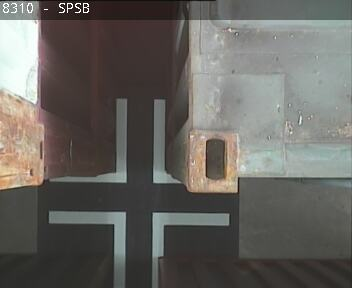groundmarker_1: (48, 208, 228, 284), (48, 98, 180, 183)
